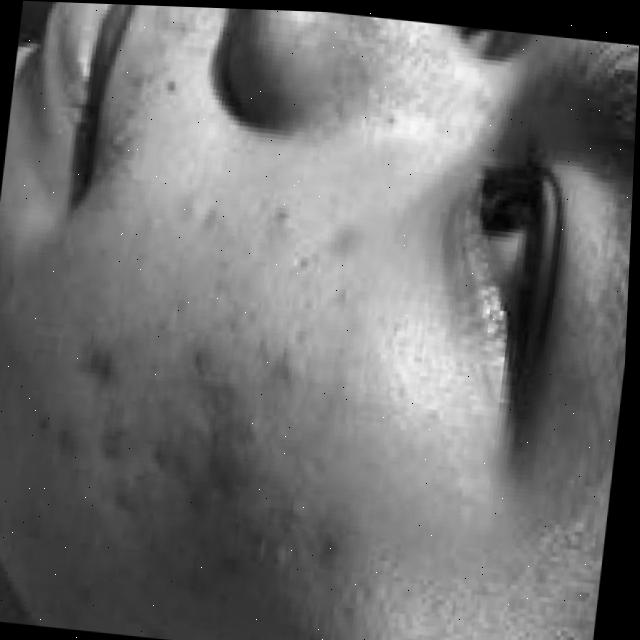Acne: (0, 248, 397, 640)
